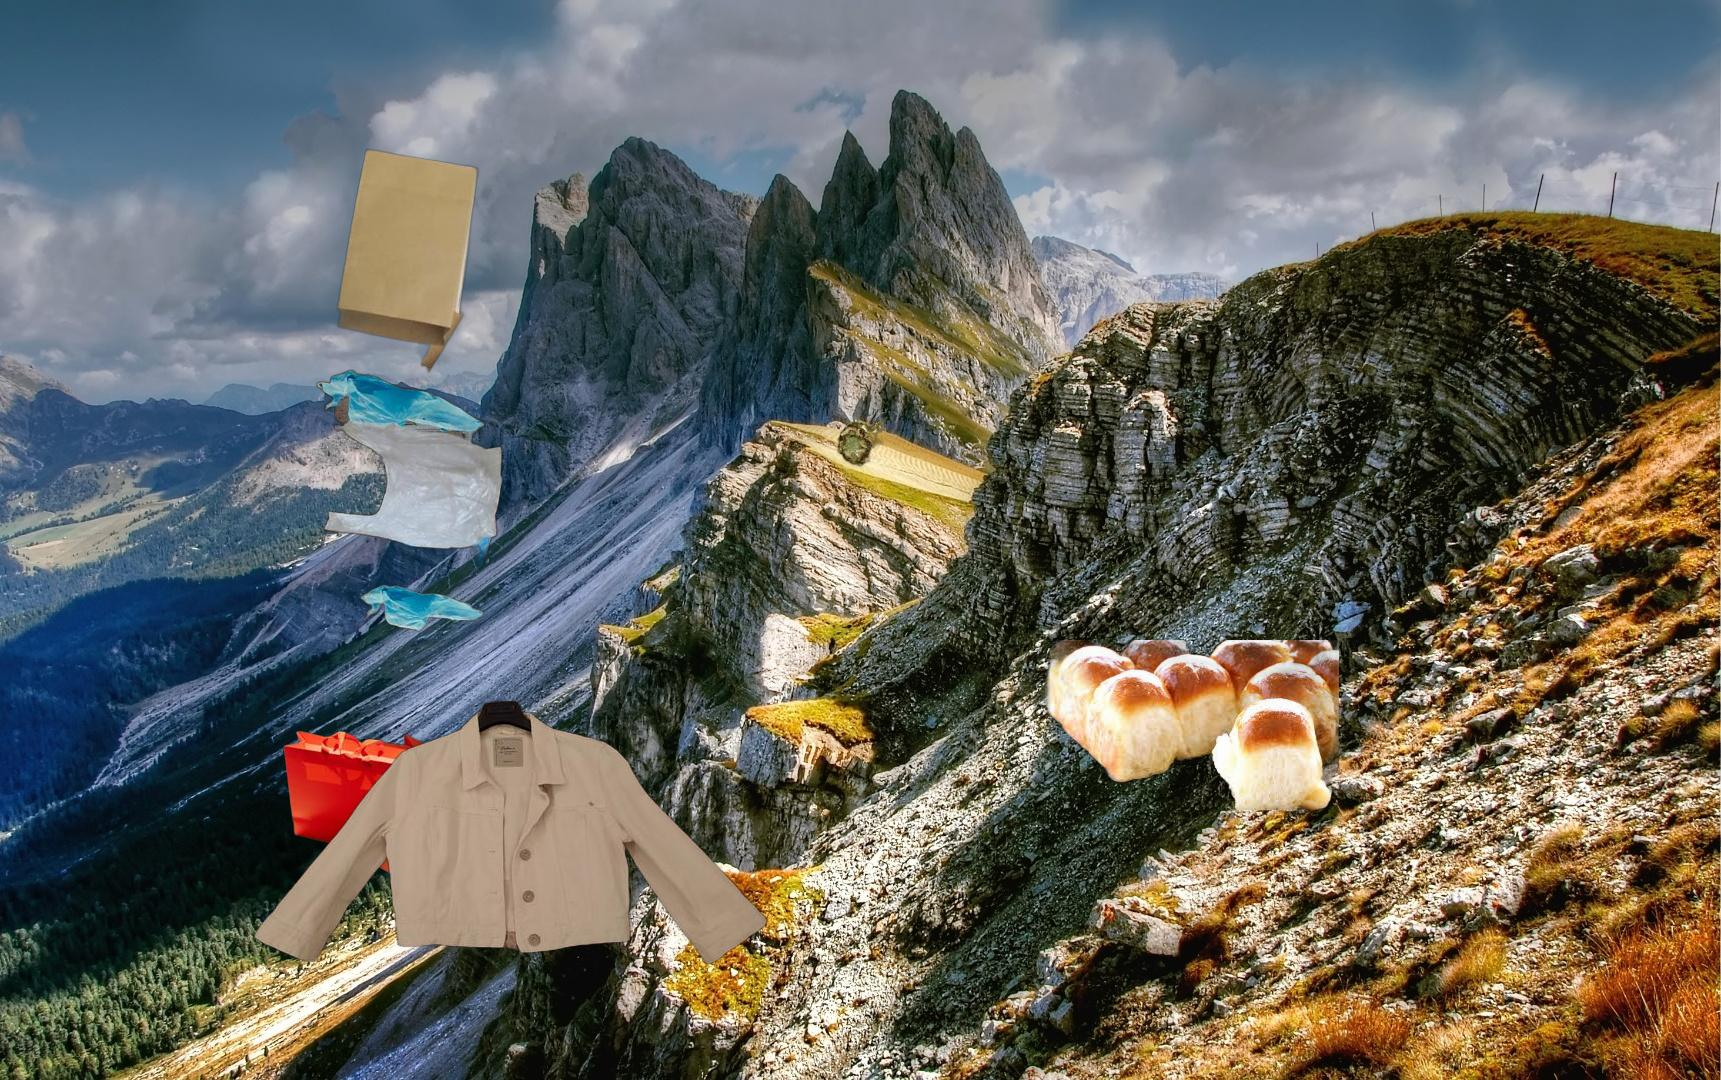biological: (1042, 640, 1339, 810), (835, 417, 887, 469)
clothes: (249, 697, 772, 968)
paper-bag: (280, 728, 545, 933), (333, 147, 516, 421)
plastic-bag: (314, 367, 506, 579), (358, 582, 485, 635)
trashbox-cardboard: (1573, 678, 1721, 1080)
